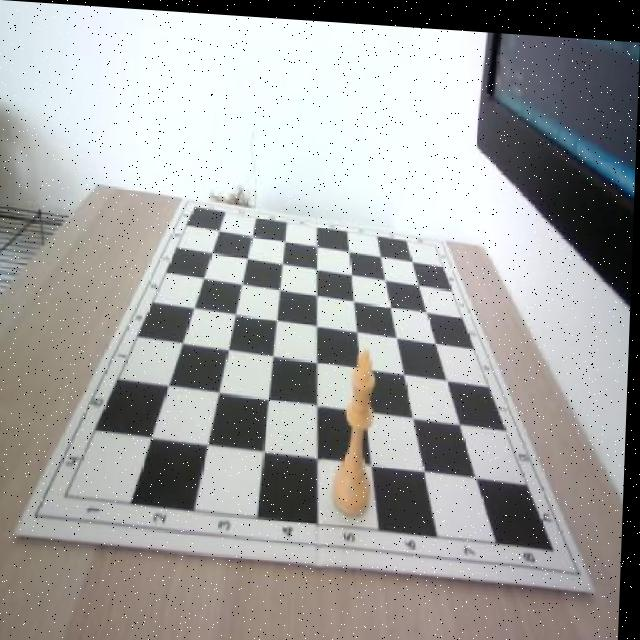white-bishop: (335, 341, 380, 510)
